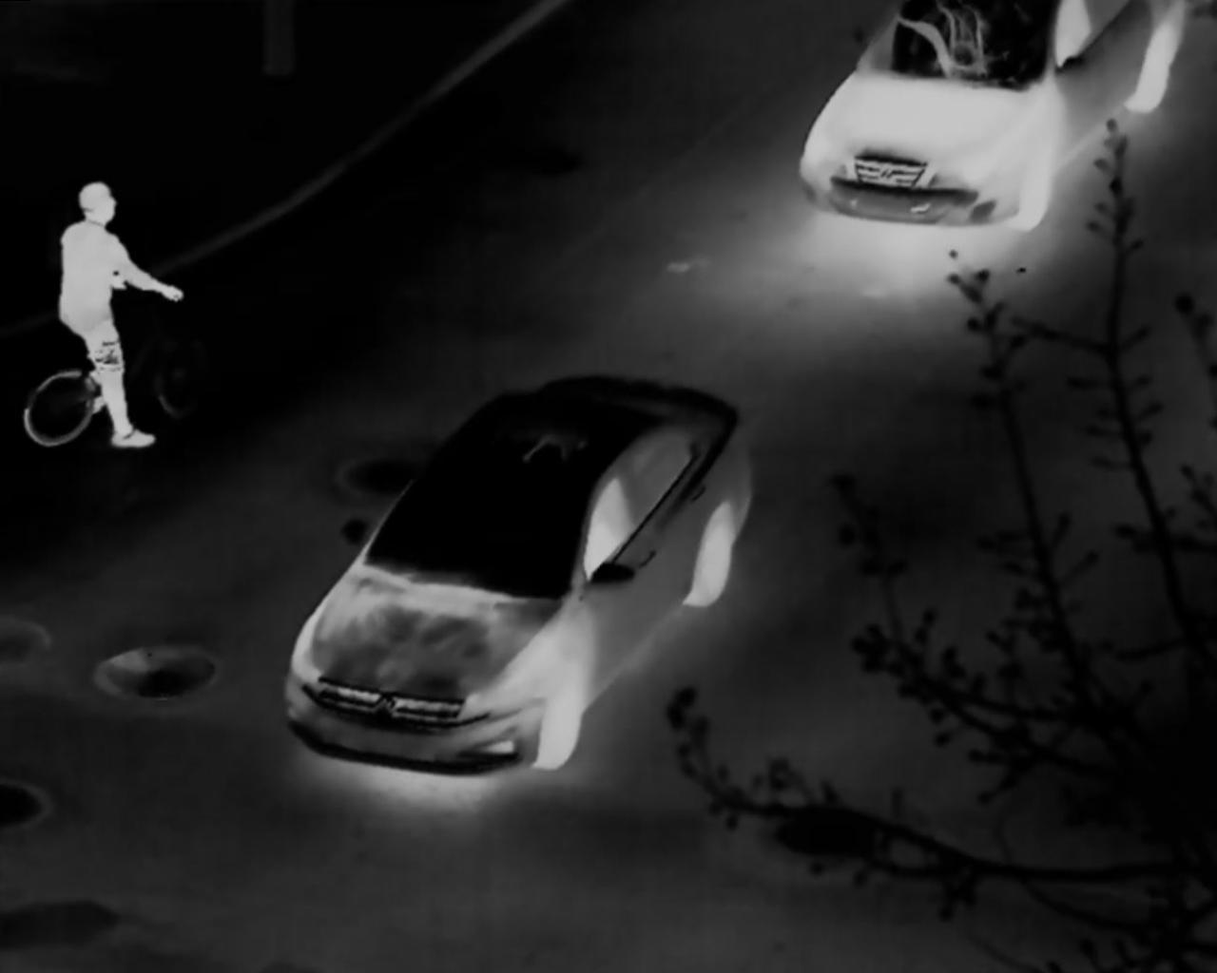person: (58, 181, 184, 448)
